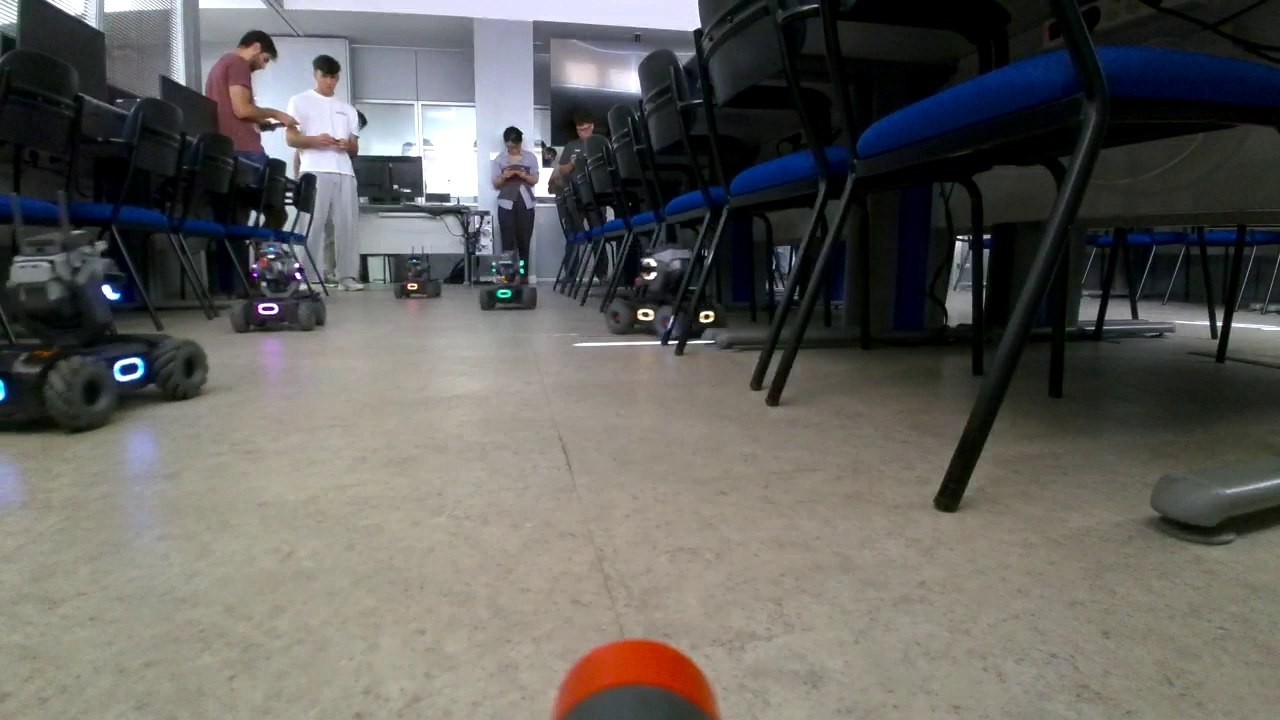robot: (3, 189, 208, 425), (609, 245, 723, 342), (230, 241, 326, 326), (481, 253, 540, 314), (394, 252, 441, 299)
